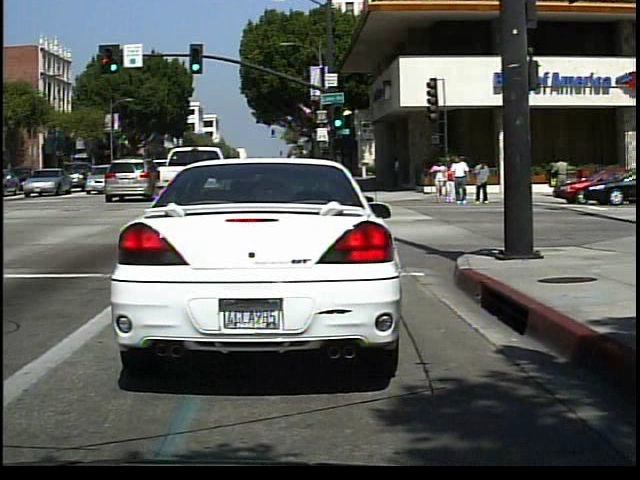person: (449, 152, 473, 206), (472, 156, 495, 207), (549, 153, 572, 200), (430, 156, 448, 205), (442, 159, 457, 207)
